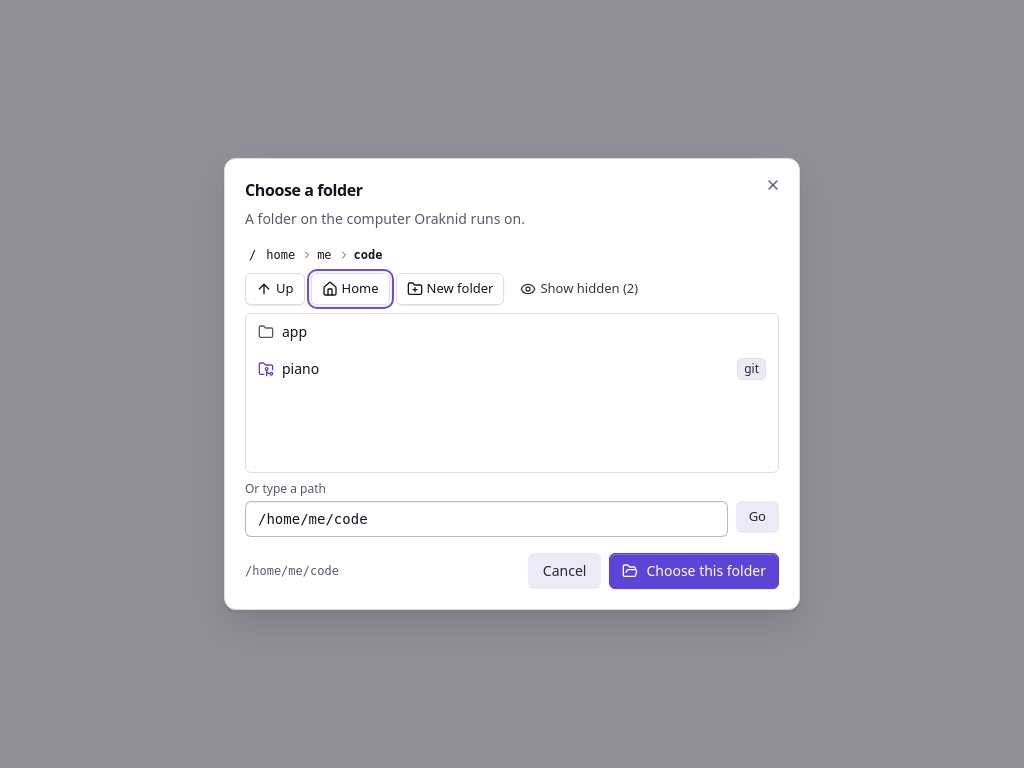
the folder picker › makes a new folder where I am, and opens it
expect the button "piano git" is shown: met, box [246, 350, 778, 388]
Click the button "New folder" at (450, 289), box [396, 273, 504, 305]
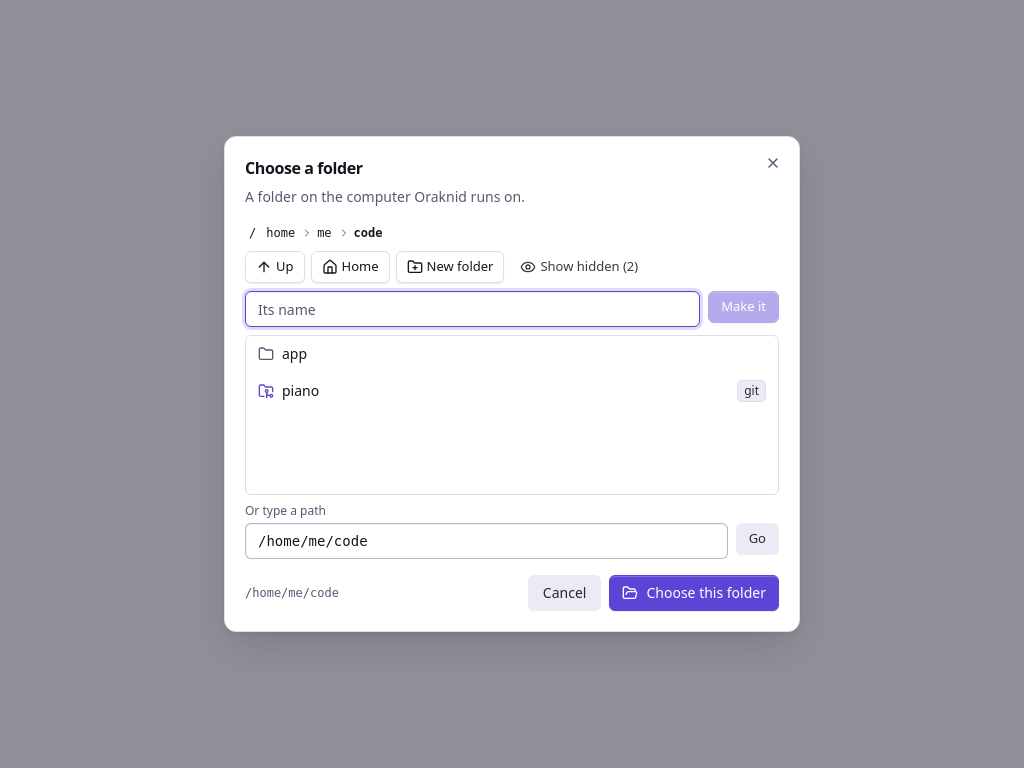
Type "my site" into the field named "New folder's name" at (473, 309), box [245, 291, 700, 327]
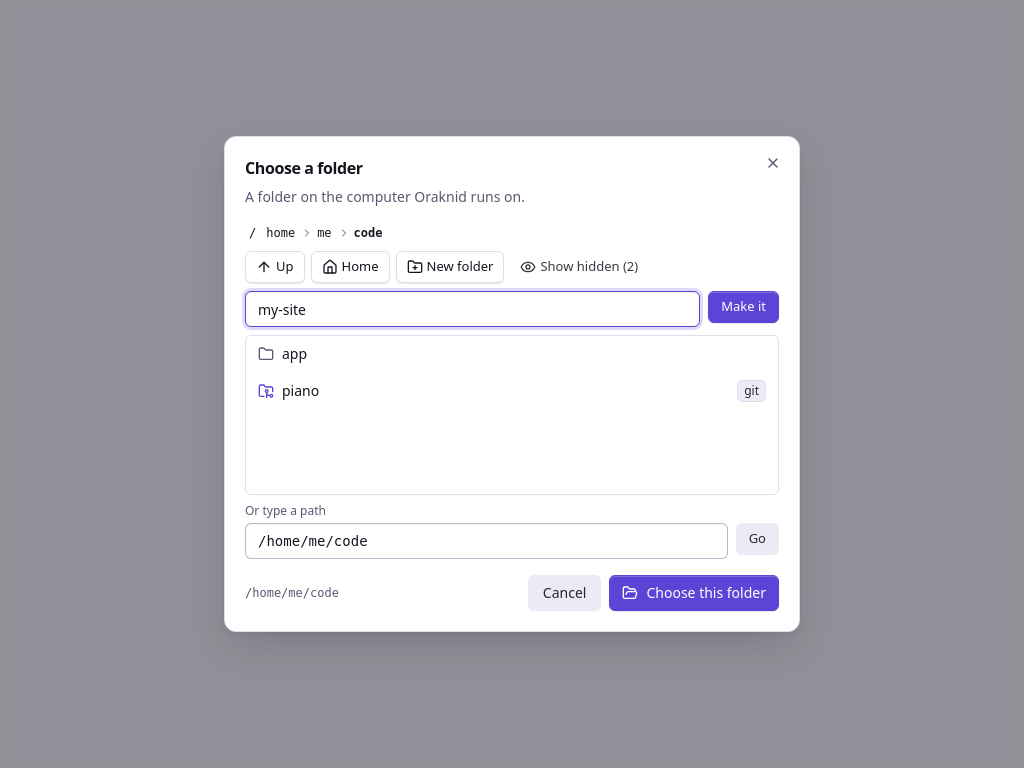
Click the button "Make it" at (744, 307), box [708, 291, 779, 323]
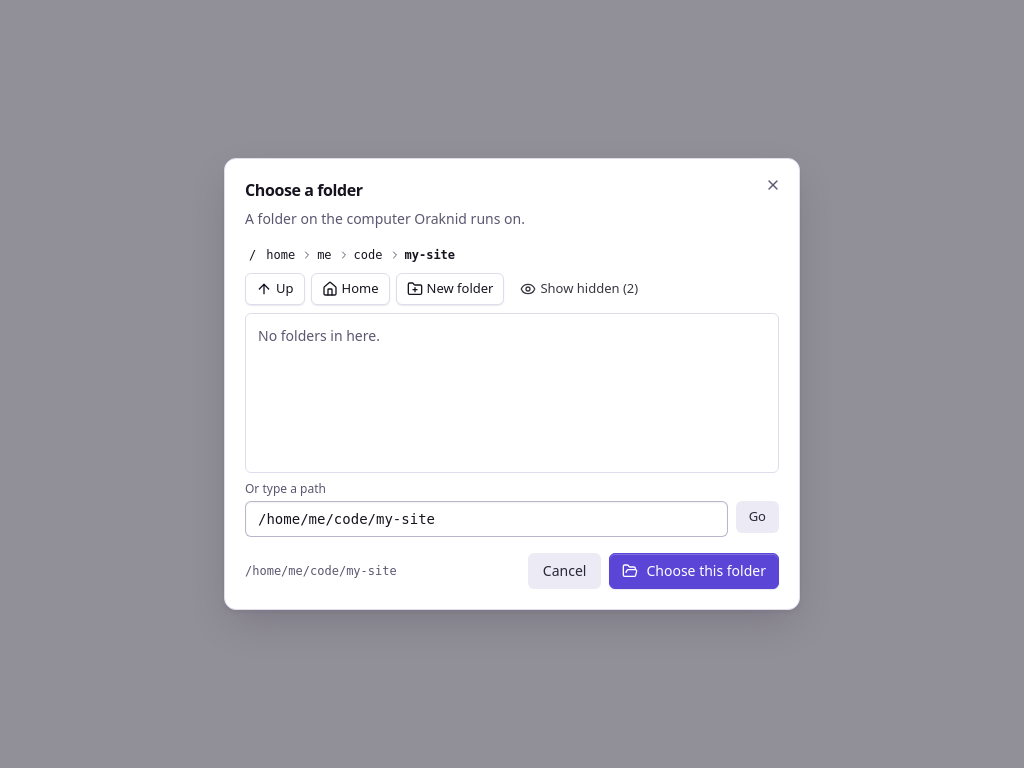
expect the text "No folders in here." is shown: met, box [258, 326, 380, 345]
expect the text "/home/me/code/my-site" is shown: met, box [245, 564, 397, 578]
